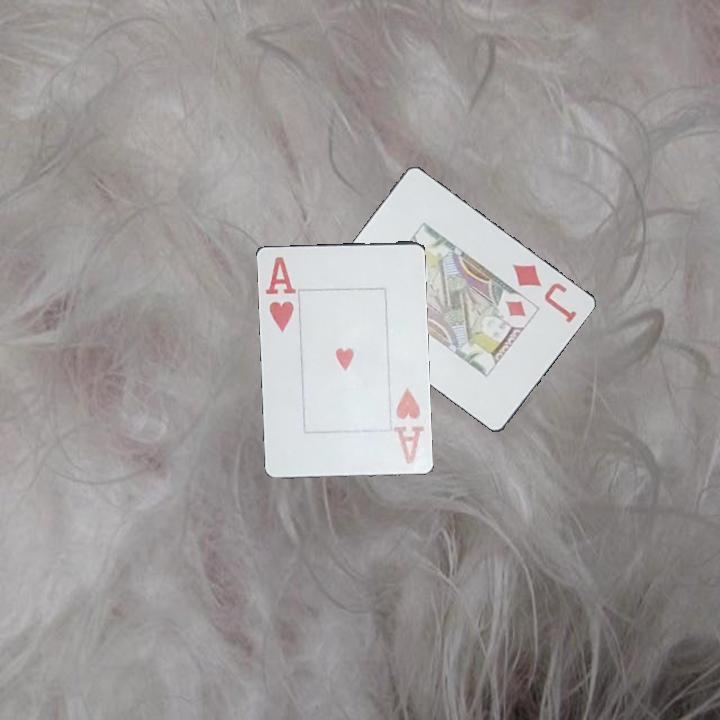Ah: (261, 253, 299, 334), (390, 384, 427, 466)
Jd: (508, 261, 579, 327)
